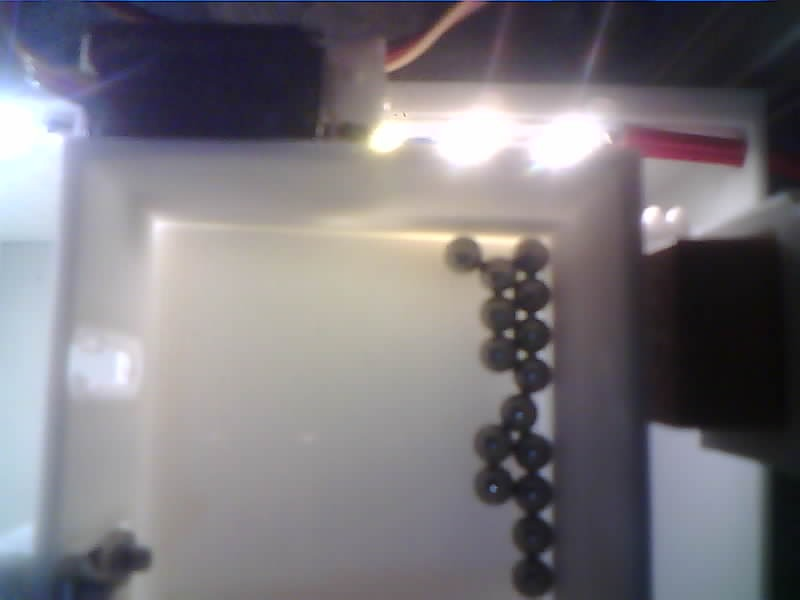Metal: (511, 556, 559, 600), (474, 464, 515, 509), (511, 514, 556, 555), (474, 426, 514, 465), (480, 335, 518, 374), (511, 432, 551, 469), (514, 474, 554, 511), (514, 317, 551, 356), (514, 239, 551, 277), (500, 394, 538, 429), (514, 357, 552, 391), (445, 236, 478, 272), (480, 298, 514, 331), (481, 262, 515, 293), (515, 279, 547, 310)
